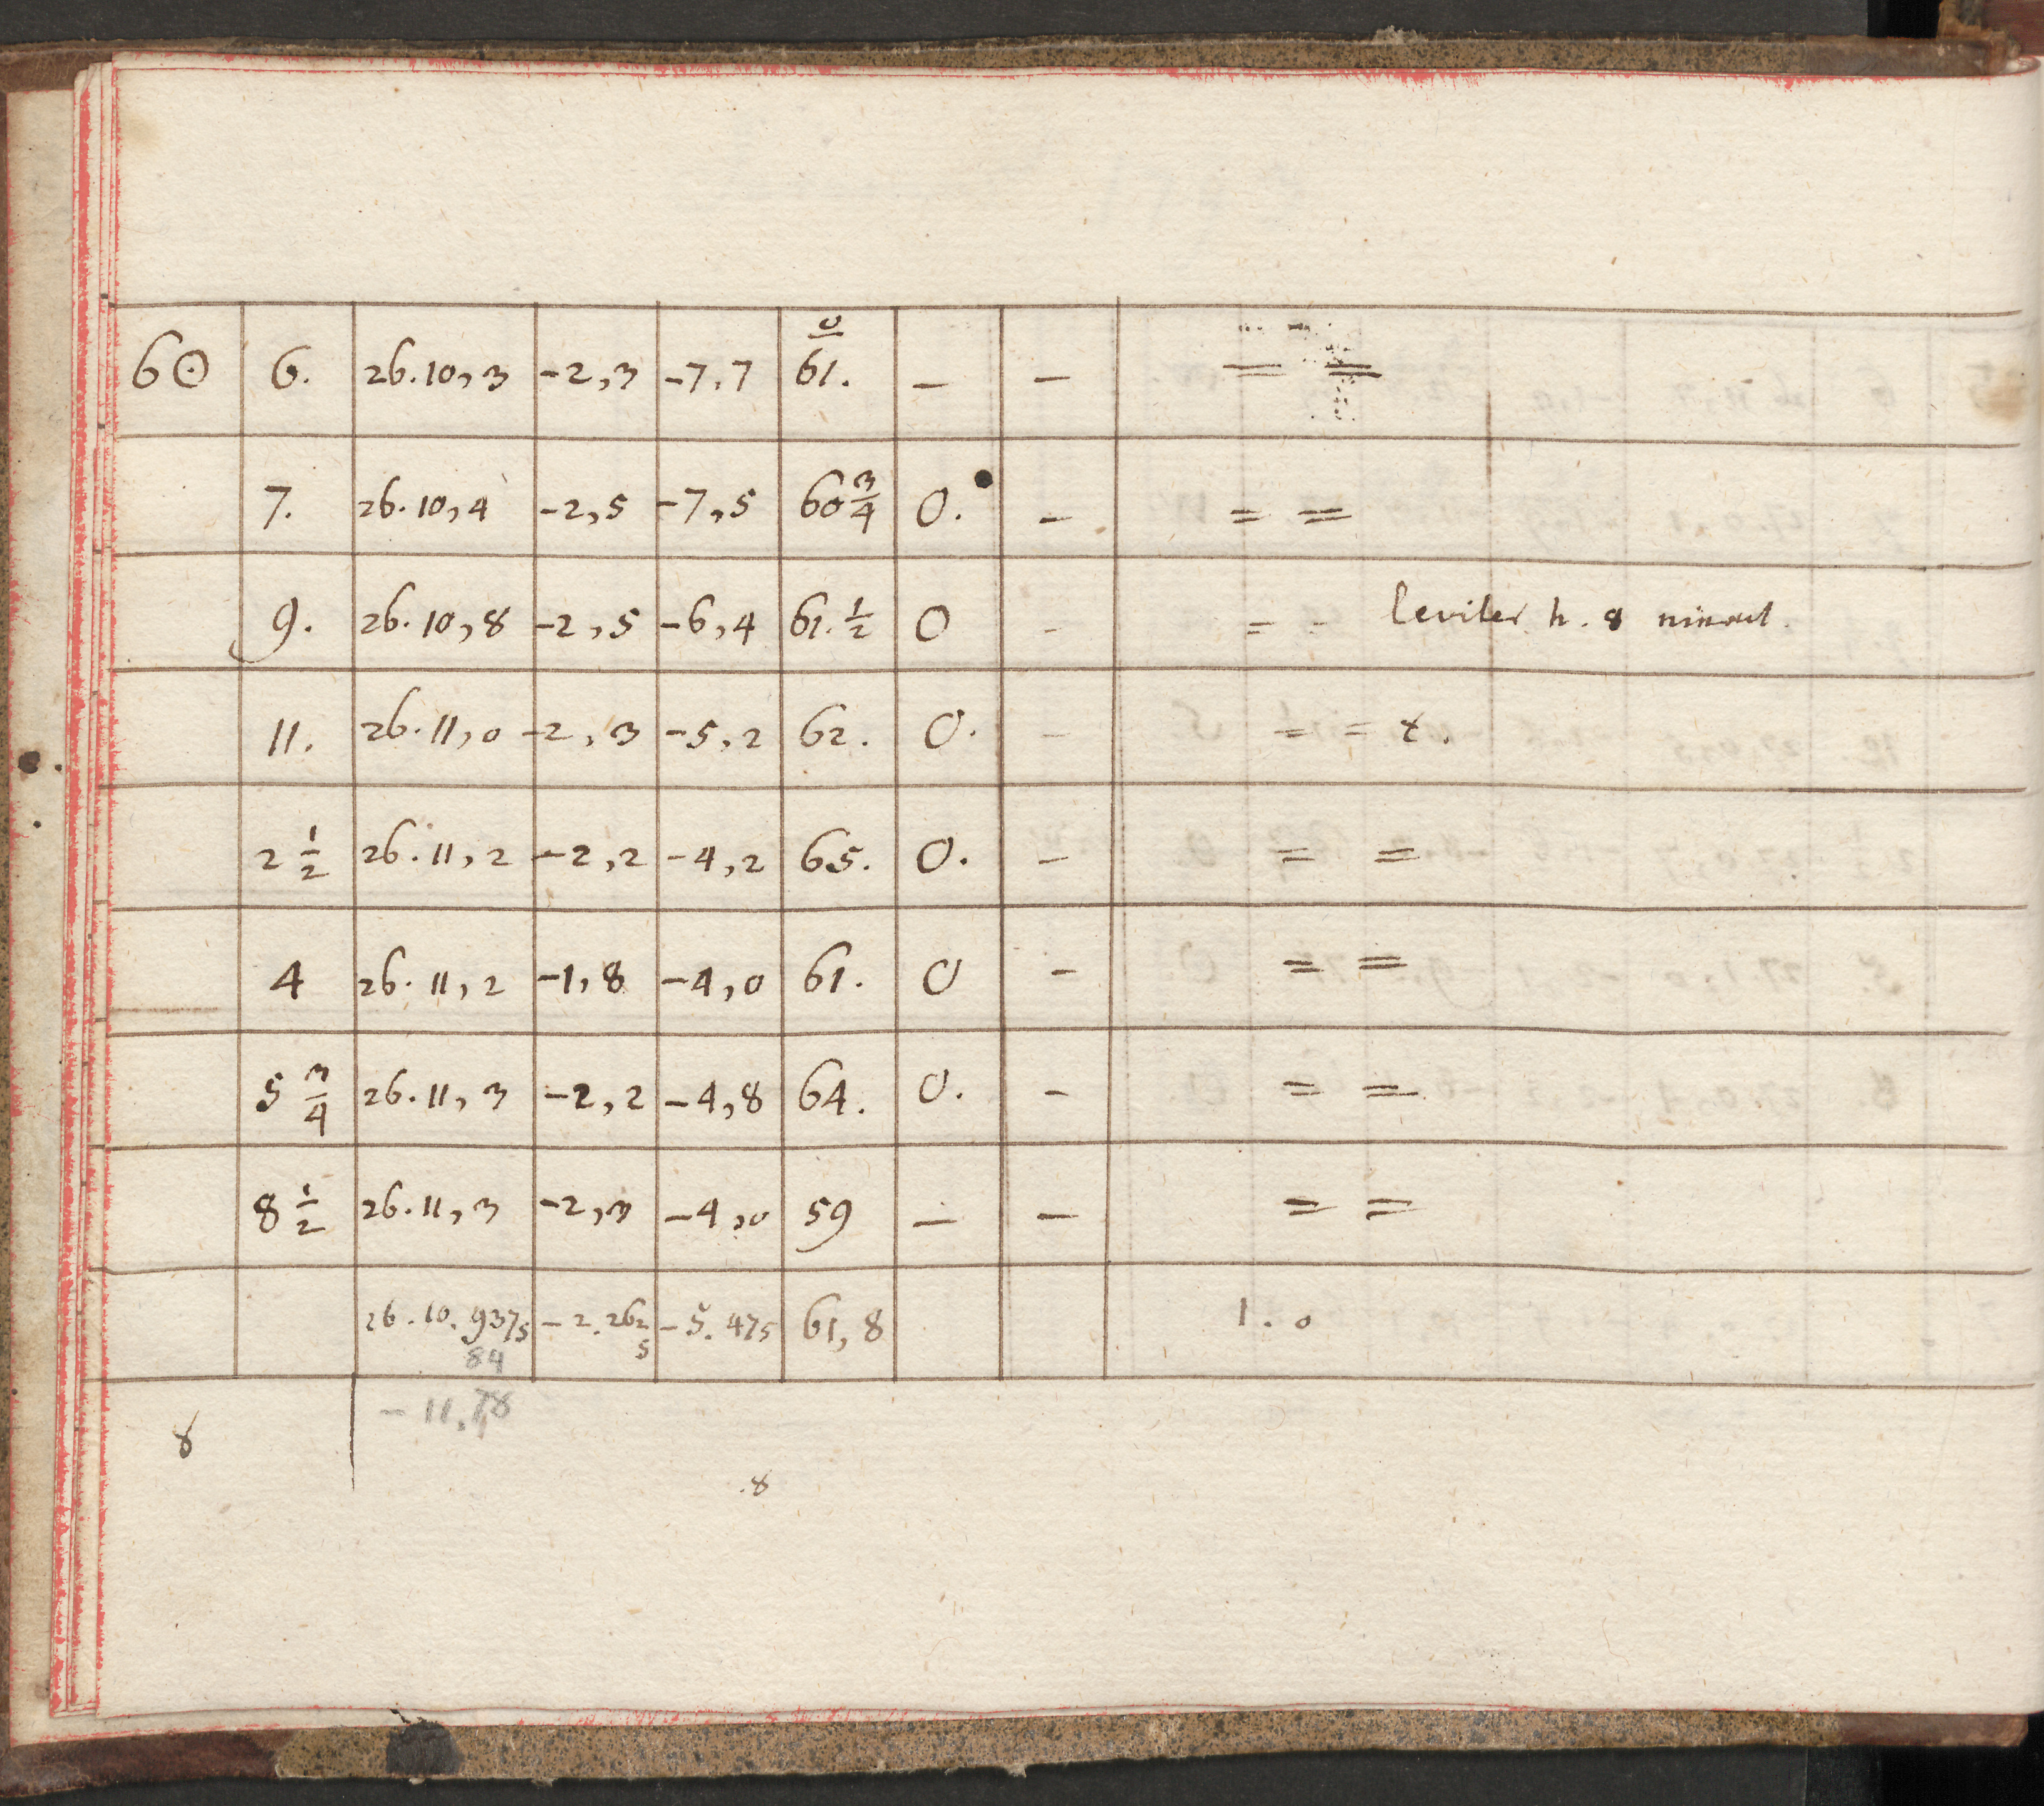bordered: (112, 302, 2035, 1386)
